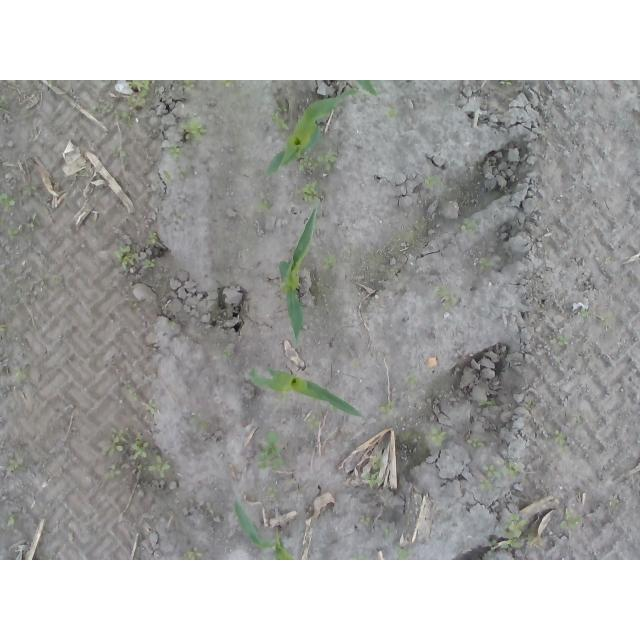Maize: (264, 90, 355, 179), (244, 366, 364, 418), (278, 209, 317, 348), (233, 496, 295, 560), (352, 80, 380, 97)
Weeds: (104, 424, 171, 480), (495, 512, 529, 549), (256, 431, 285, 470), (298, 152, 338, 172), (361, 455, 384, 489), (176, 117, 208, 141), (431, 284, 458, 312), (116, 244, 141, 273), (127, 80, 152, 108), (479, 465, 521, 480), (299, 181, 321, 207), (560, 507, 585, 529), (271, 103, 290, 129), (460, 215, 481, 234), (381, 398, 400, 418), (393, 544, 416, 560), (33, 271, 52, 290), (429, 426, 447, 446), (191, 411, 209, 429), (111, 144, 129, 161), (168, 144, 184, 161), (185, 546, 204, 560), (555, 430, 569, 449), (0, 192, 16, 208), (549, 335, 572, 346), (306, 415, 322, 430), (142, 400, 157, 415), (424, 175, 440, 189), (7, 458, 23, 471), (480, 256, 493, 272), (113, 110, 129, 123), (323, 256, 337, 270), (467, 436, 483, 448), (384, 107, 400, 119), (229, 462, 240, 479), (127, 384, 138, 401), (142, 259, 159, 270), (127, 300, 141, 313), (267, 485, 280, 498), (6, 227, 18, 241), (15, 368, 25, 384), (148, 230, 161, 242), (607, 498, 621, 509), (184, 80, 195, 94), (480, 400, 497, 409), (7, 512, 17, 527), (164, 169, 173, 184), (478, 480, 490, 491), (257, 200, 271, 209), (95, 106, 113, 113), (405, 375, 417, 385), (497, 80, 512, 88), (224, 81, 241, 88), (581, 307, 589, 321), (414, 223, 425, 233), (177, 168, 189, 177), (22, 184, 35, 192), (605, 256, 616, 265), (360, 516, 371, 525), (352, 554, 368, 560), (79, 168, 89, 177), (223, 352, 233, 361), (0, 216, 6, 227), (384, 528, 392, 536), (168, 320, 176, 328), (1, 324, 8, 332)
